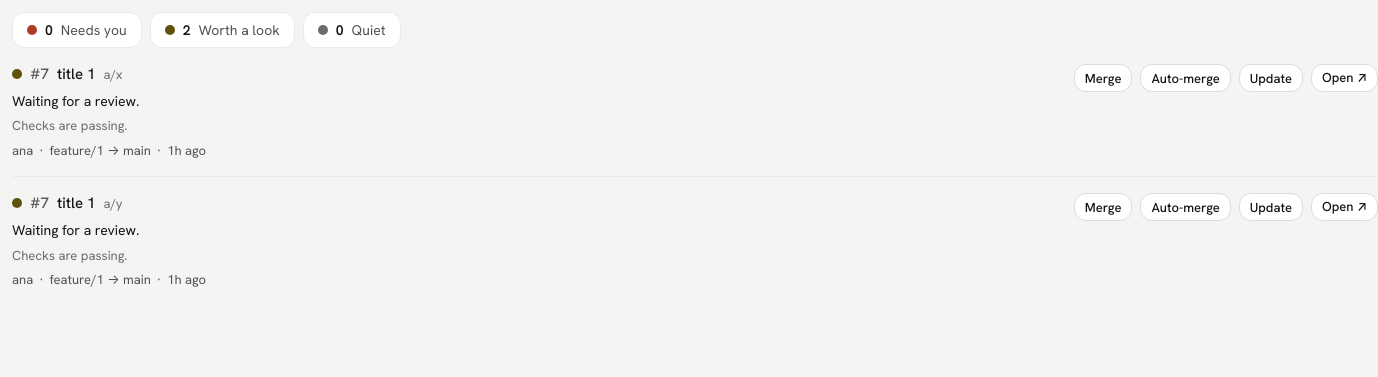
Scenario: PrInbox — one row vocabulary › opens the Confirm under a/x#7 alone when a/y#7 is listed too (Review Focus 4)
The image size is (1378, 377).
Step 1. Click the button "Merge" in the row of "a/x" → (1103, 78), box [1074, 64, 1132, 92]
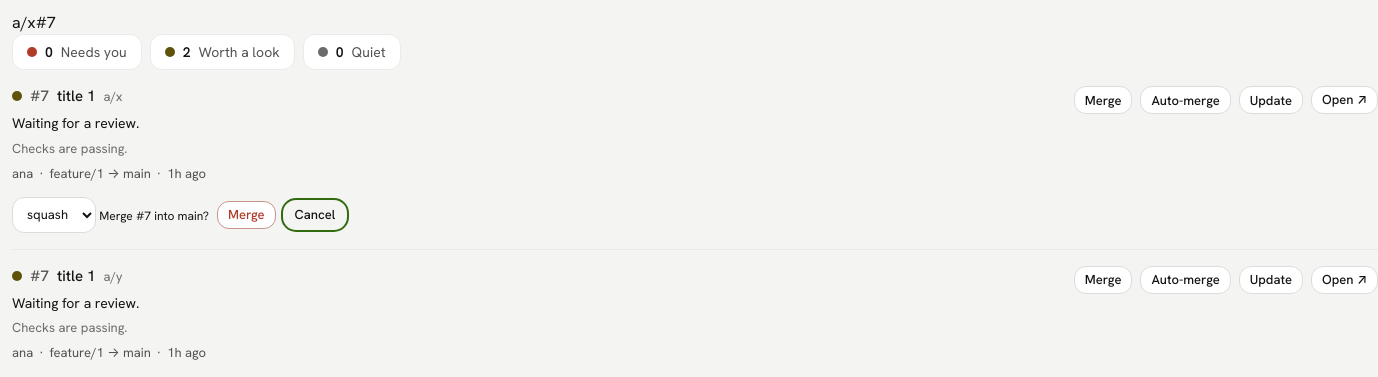
Check: the number of elements with test id "pr-merge-confirm" is 1, box [12, 197, 346, 233]
